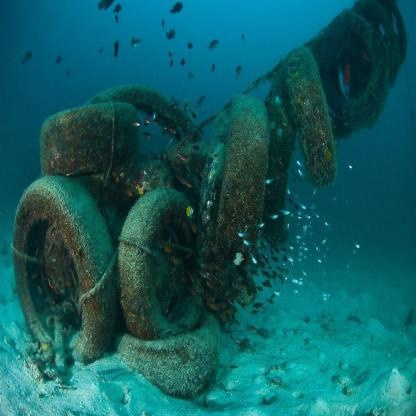tire: (7, 176, 114, 360), (107, 183, 205, 335), (315, 1, 414, 139), (200, 92, 268, 290), (92, 314, 222, 391), (280, 48, 342, 187), (76, 76, 201, 141), (33, 99, 133, 177), (253, 70, 295, 254)
